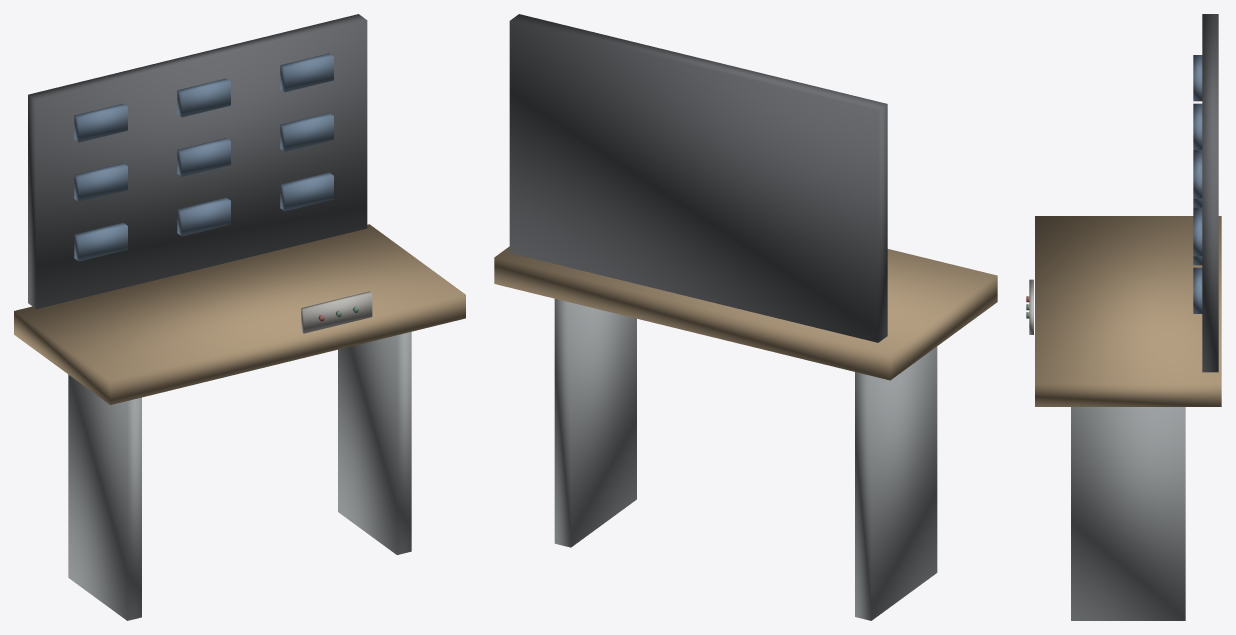
Rendered from electronics_repair_bench__tall.glb.
3 renders of one model, left to right at view 1: azimuth 30°, elevation 25°; view 2: azimuth 150°, elevation 25°; view 3: azimuth 270°, elevation 25°, orthographic. The views are drawn at different scales.
Visible parts, largest first — view 1: world; view 2: world; view 3: world.
Boxes of the visible parts, x1,y1,x2,y2 form: world: (14, 14, 465, 620); world: (494, 14, 997, 620); world: (1026, 14, 1221, 620).
Bounding box in the file's own units: 1.45 × 1.86 × 0.711.
